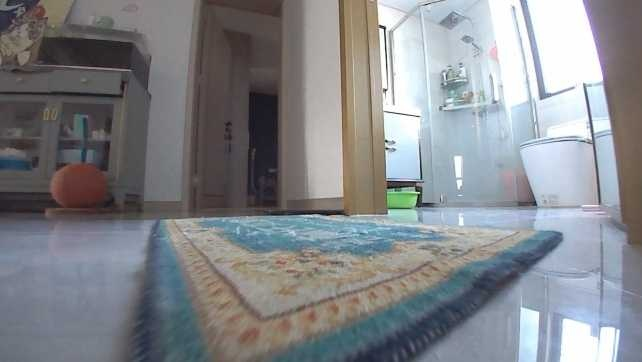blanket: (132, 210, 569, 361)
toilet: (515, 113, 598, 206)
